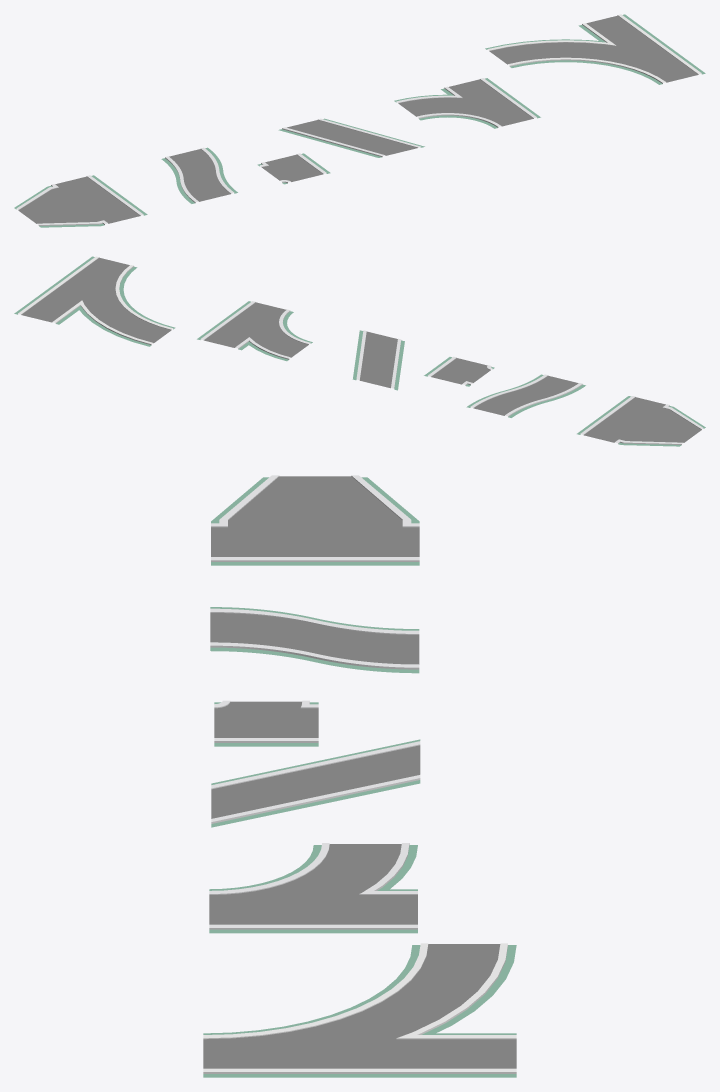
Rendered from track_flipped.glb.
3 views of the same model, one above another, from view 1: azimuth 30°, elevation 25°; view 2: azimuth 150°, elevation 25°; view 3: azimuth 270°, elevation 25° (orthographic). The views are drawn at different scales.
Visible parts, largest first — view 1: roadSplitLarger-col, roadSide-col, roadSplitLarge-col, roadStraightSkew-col, roadCurved-col, roadSplitSmall-col; view 2: roadSplitLarger-col, roadSide-col, roadSplitLarge-col, roadCurved-col, roadStraightSkew-col, roadSplitSmall-col; view 3: roadSplitLarger-col, roadSide-col, roadSplitLarge-col, roadStraightSkew-col, roadCurved-col, roadSplitSmall-col.
Boxes of the visible parts, x1,y1,x2,y2 form: roadSplitLarger-col: [485, 14, 705, 84]; roadSide-col: [14, 175, 147, 227]; roadSplitLarge-col: [394, 78, 540, 128]; roadStraightSkew-col: [278, 118, 424, 157]; roadCurved-col: [161, 147, 237, 203]; roadSplitSmall-col: [257, 153, 330, 184]; roadSplitLarger-col: [14, 256, 175, 346]; roadSide-col: [577, 396, 705, 446]; roadSplitLarge-col: [197, 301, 312, 361]; roadCurved-col: [466, 374, 585, 417]; roadStraightSkew-col: [352, 330, 404, 390]; roadSplitSmall-col: [424, 356, 494, 386]; roadSplitLarger-col: [203, 943, 516, 1077]; roadSide-col: [211, 475, 419, 565]; roadSplitLarge-col: [209, 843, 417, 933]; roadStraightSkew-col: [211, 739, 420, 827]; roadCurved-col: [210, 607, 419, 673]; roadSplitSmall-col: [214, 700, 318, 746].
Bounding box in the file's own units: 27.8 × 0.4781 × 6.
